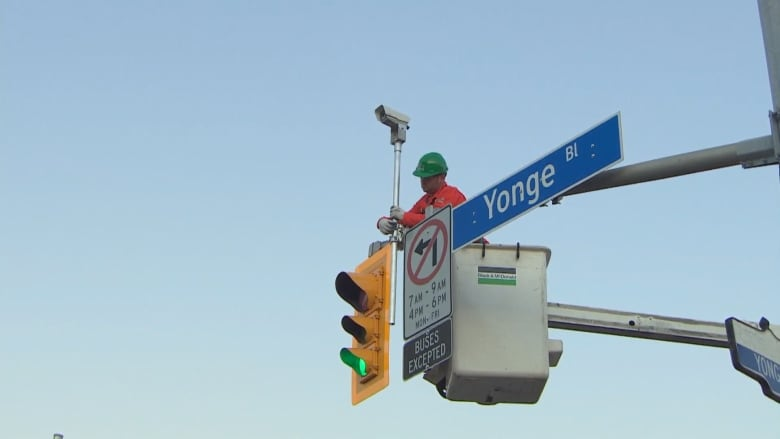traffic light: (318, 231, 406, 413)
